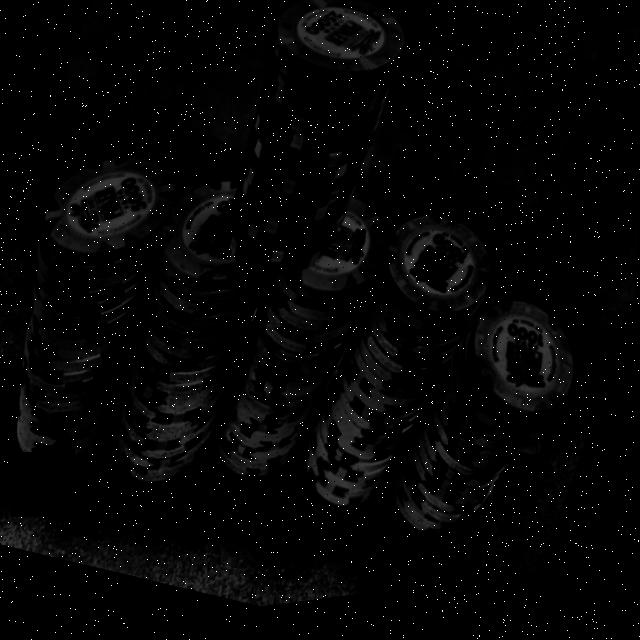Chip: (62, 154, 303, 527), (287, 187, 516, 565), (188, 163, 410, 523), (0, 125, 211, 501), (369, 265, 607, 594), (182, 0, 423, 313)
